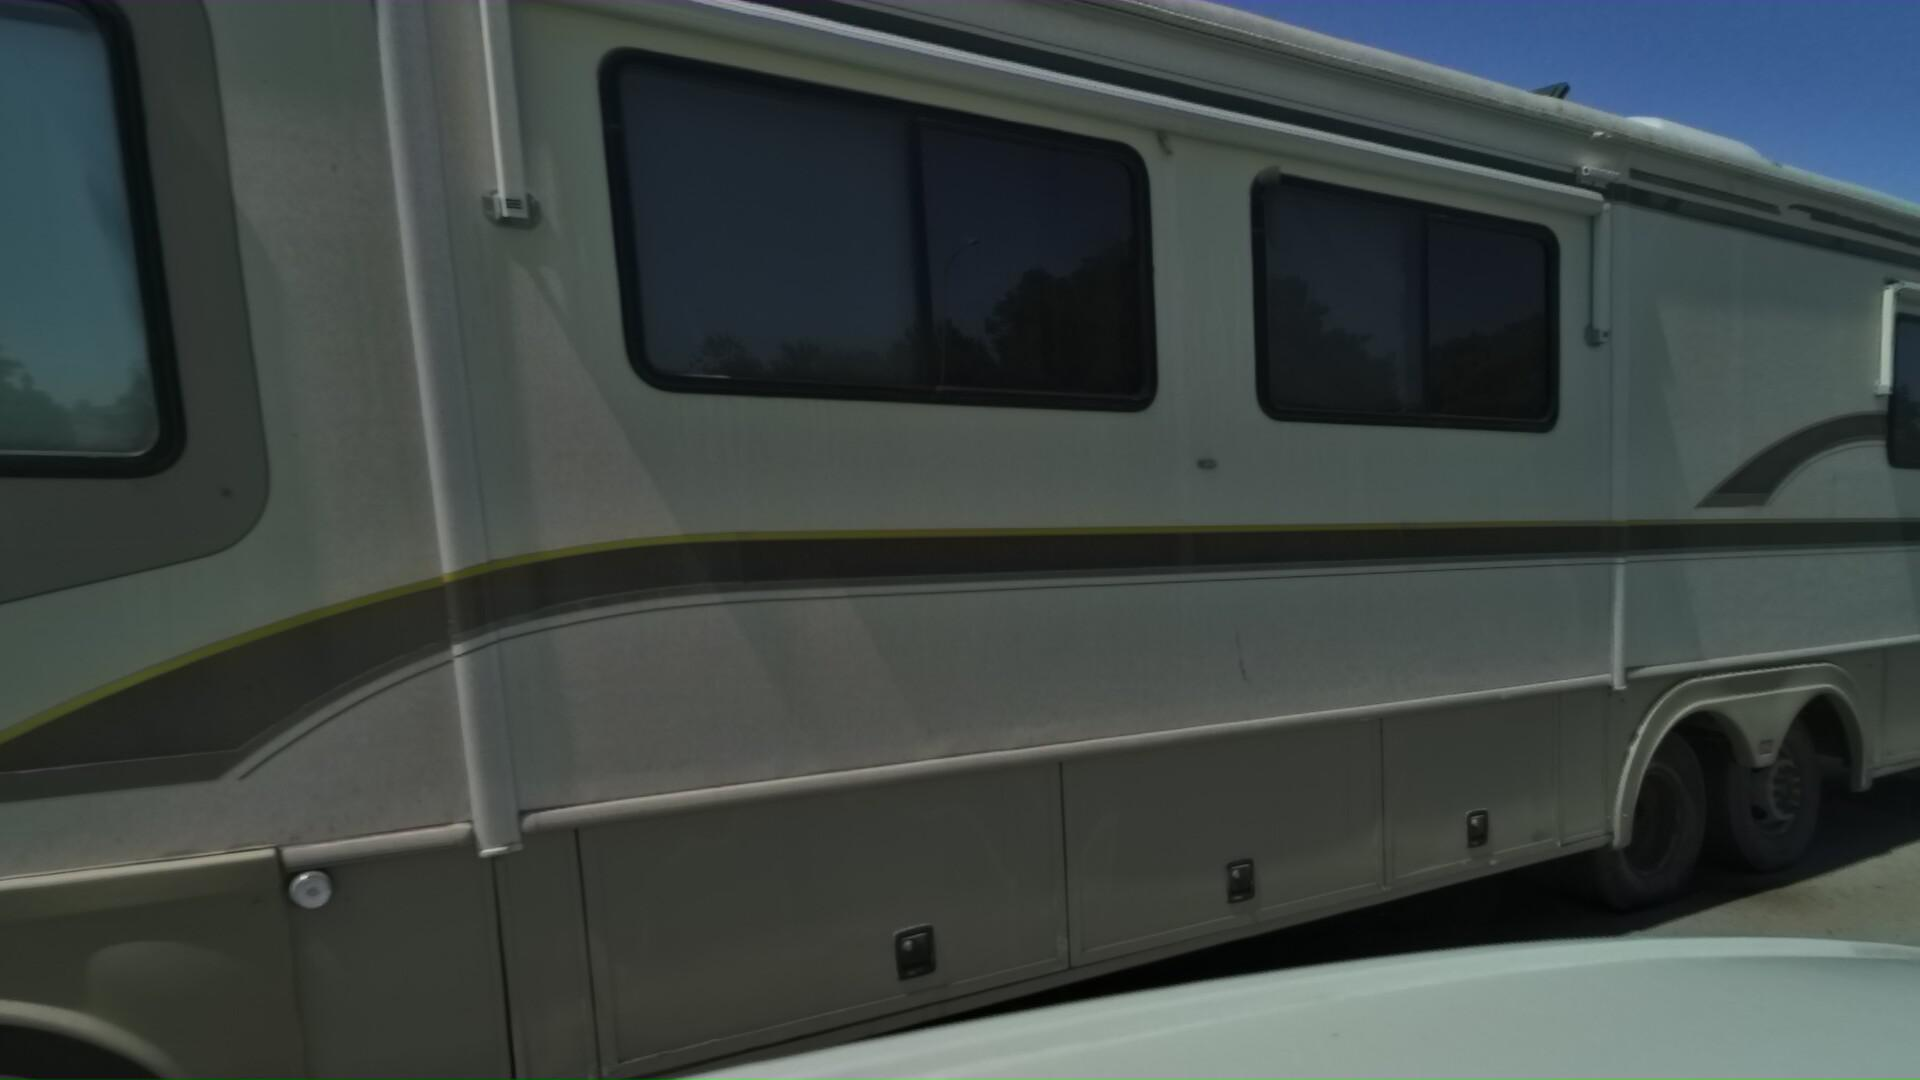car: (1888, 520, 1920, 767)
other_vehicle: (0, 0, 1920, 1080)
